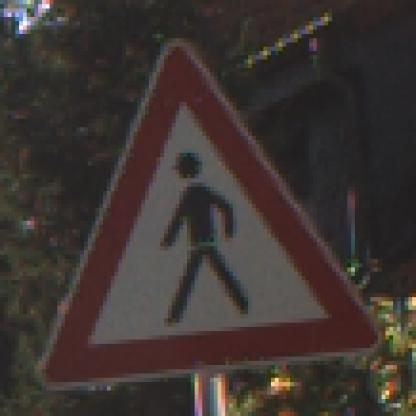crosswalk: (35, 40, 381, 395)
